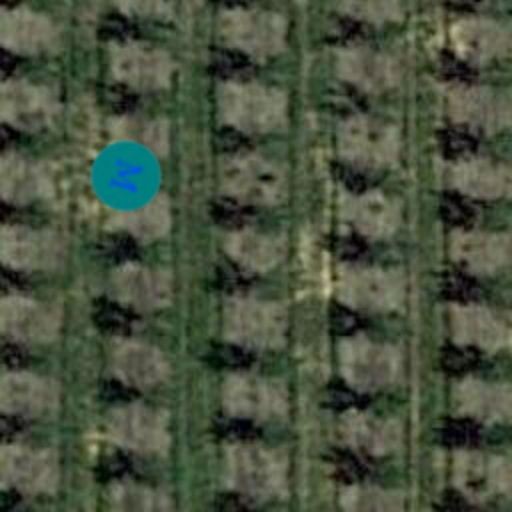circle: (82, 132, 170, 220)
